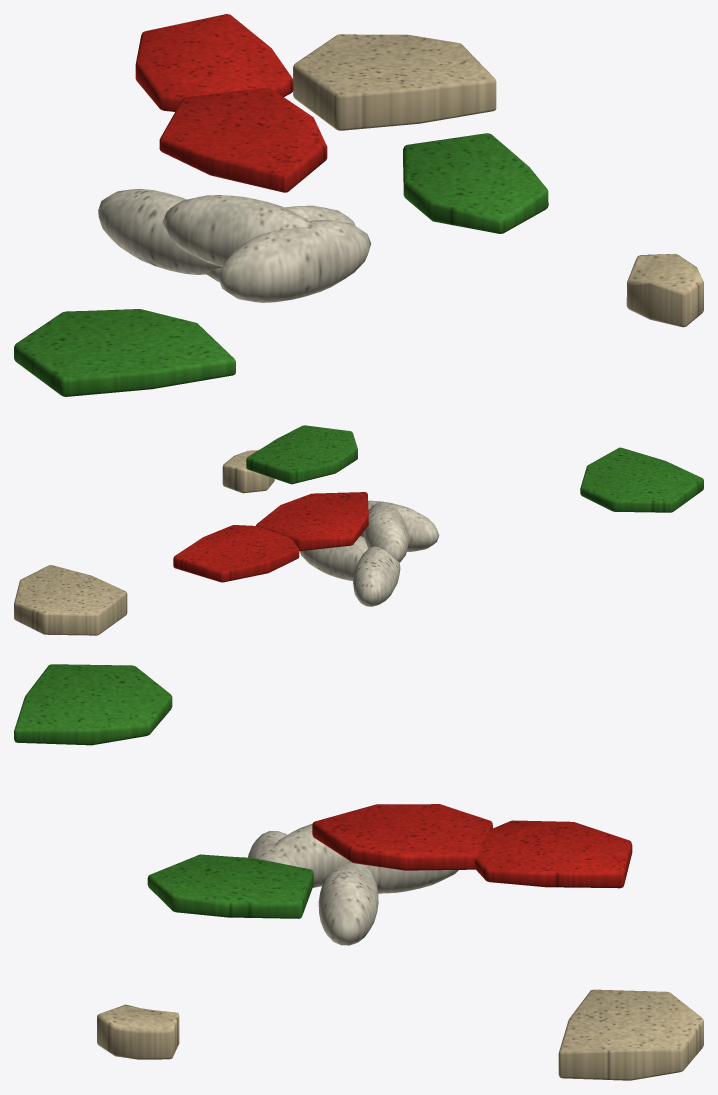
Rendered from food-10-residue.glb.
3 renders of one model, top to bottom at view 1: azimuth 30°, elevation 25°; view 2: azimuth 150°, elevation 25°; view 3: azimuth 270°, elevation 25°, orthographic. The views are drawn at different scales.
Visible parts, largest first — view 1: Food; view 2: Food; view 3: Food.
Boxes of the visible parts, <box> form: Food: <box>14,14,703,396</box>; Food: <box>14,425,703,635</box>; Food: <box>14,664,703,1080</box>.
Size of the model in its own units: 0.6086 by 0.1025 by 0.5744.
Materials: 1 (1 with a texture image).
